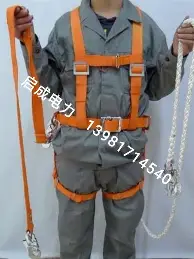safety belt: (50, 10, 151, 207)
